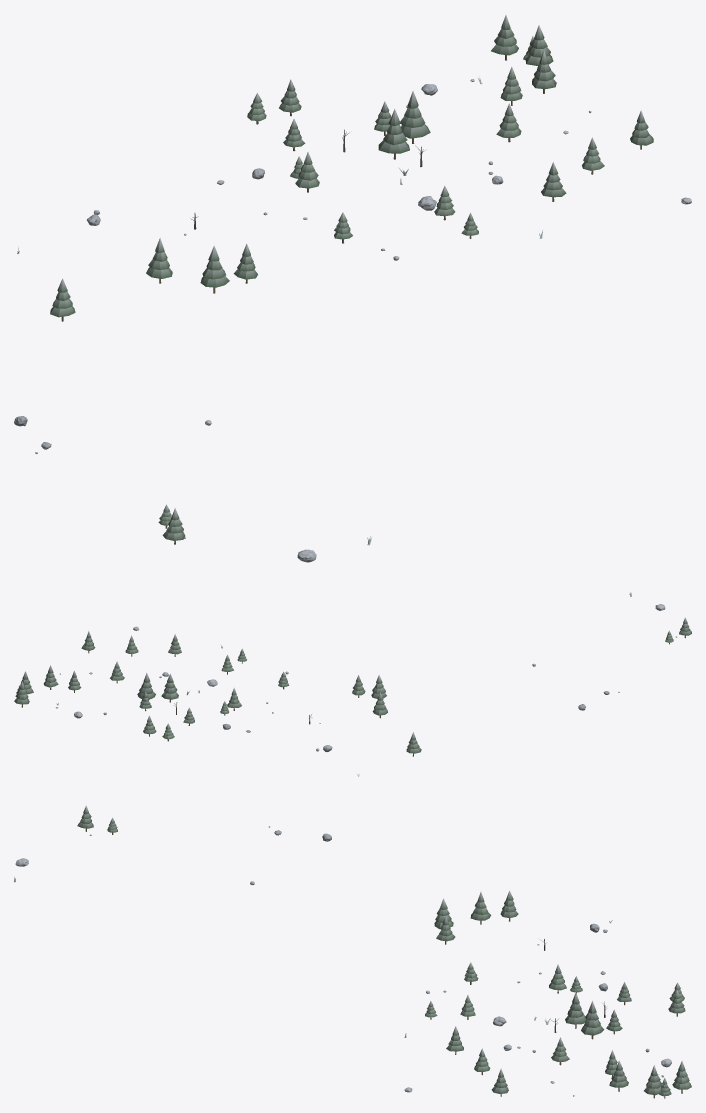
File: frost_land_scatter_c13_10.glb
3 views of the same model, one above another, from view 1: azimuth 30°, elevation 25°; view 2: azimuth 150°, elevation 25°; view 3: azimuth 270°, elevation 25° (orthographic). The views are drawn at different scales.
Visible parts, largest first — view 1: frost_land_scatter_c13_10; view 2: frost_land_scatter_c13_10; view 3: frost_land_scatter_c13_10.
Boxes of the visible parts, x1,y1,x2,y2 form: frost_land_scatter_c13_10: [14, 15, 691, 562]; frost_land_scatter_c13_10: [14, 592, 691, 776]; frost_land_scatter_c13_10: [14, 805, 691, 1098].
Size of the model in its own units: 245 by 26.62 by 255.
